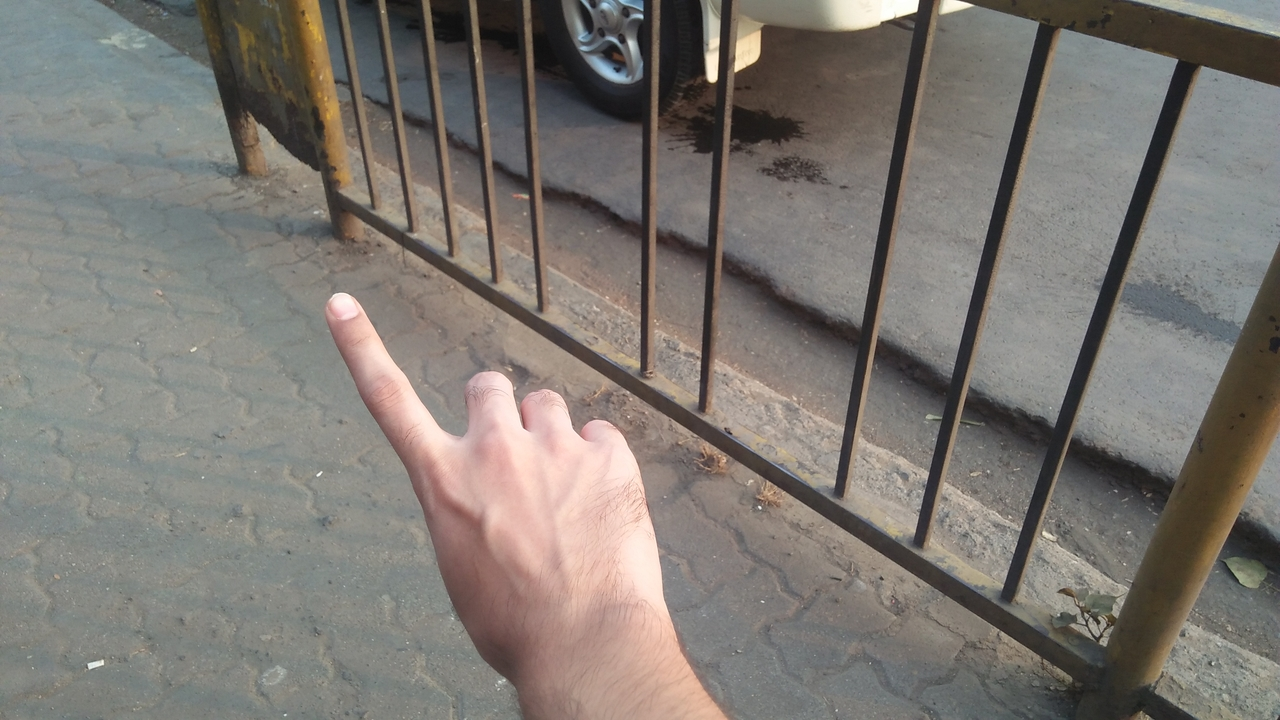fingertip: (312, 280, 370, 342)
